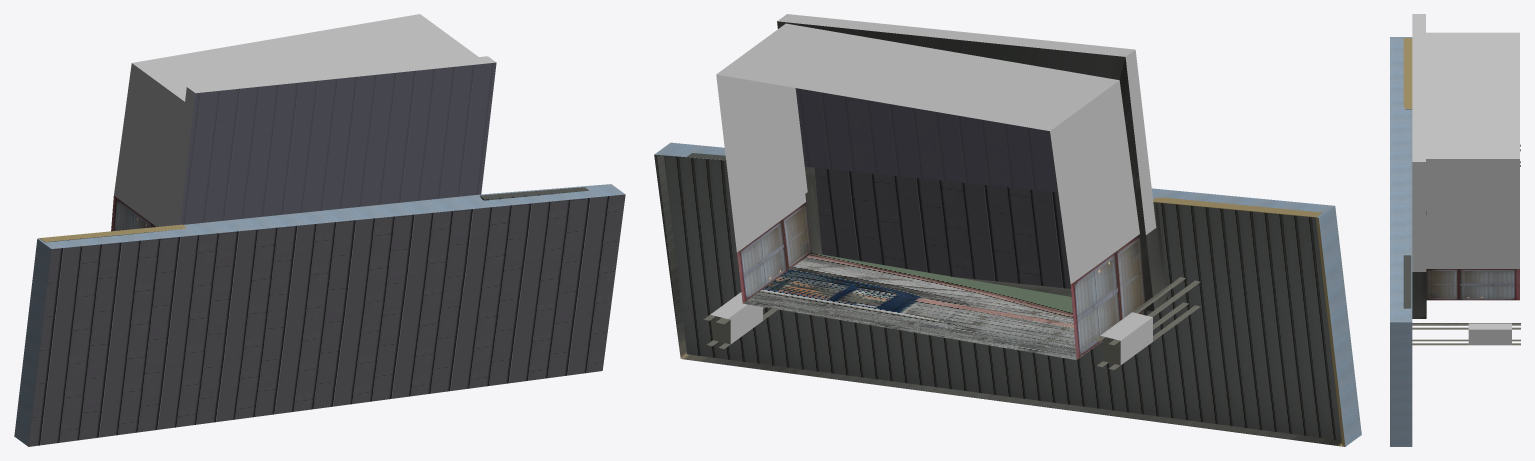
Rendered from Vabaduse_valjak_1a-origo.obj.
3 renders of one model, left to right at view 1: azimuth 30°, elevation 25°; view 2: azimuth 150°, elevation 25°; view 3: azimuth 270°, elevation 25°, orthographic. The views are drawn at different scales.
Visible parts, largest first — view 1: polySurface1; view 2: polySurface1; view 3: polySurface1.
Boxes of the visible parts, <box> form: polySurface1: <box>14,14,625,446</box>; polySurface1: <box>654,14,1361,446</box>; polySurface1: <box>1390,14,1520,446</box>.
Bounding box in the file's own units: 14.62 × 8.5 × 3.55.
